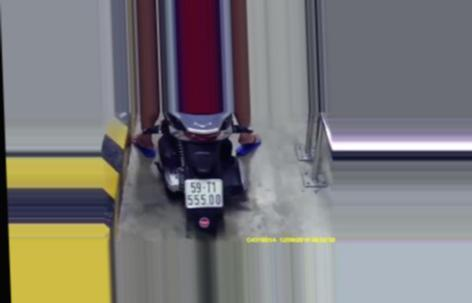License_Plate: (182, 177, 227, 210)
